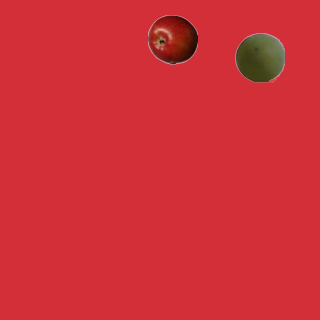Apple Braeburn: (147, 14, 197, 64)
Grape White 4: (234, 32, 284, 82)
